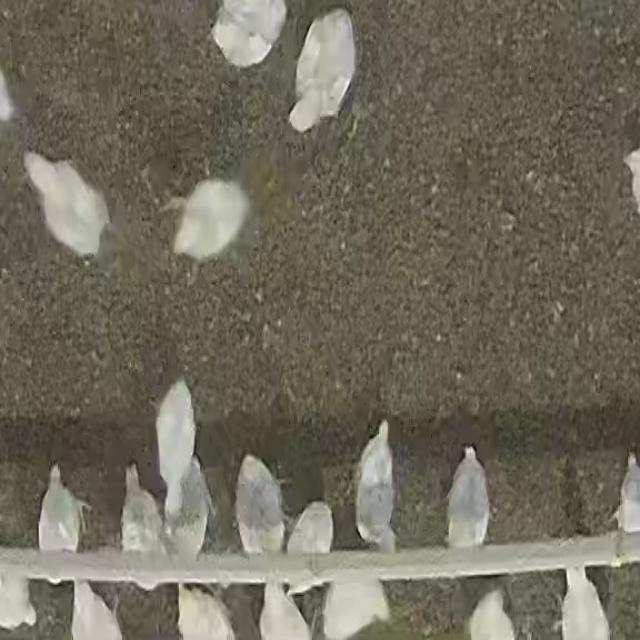chicken: (24, 154, 111, 259), (289, 11, 355, 130), (168, 181, 248, 265), (351, 422, 399, 554), (154, 378, 194, 518), (234, 453, 287, 558), (212, 0, 290, 68), (38, 461, 92, 554), (168, 458, 221, 552), (444, 446, 489, 550), (320, 577, 392, 640), (120, 464, 164, 564), (558, 568, 610, 640), (255, 576, 310, 640), (175, 585, 238, 640), (68, 581, 126, 640), (286, 500, 335, 558), (466, 588, 520, 640), (611, 451, 640, 538), (0, 571, 40, 630)
